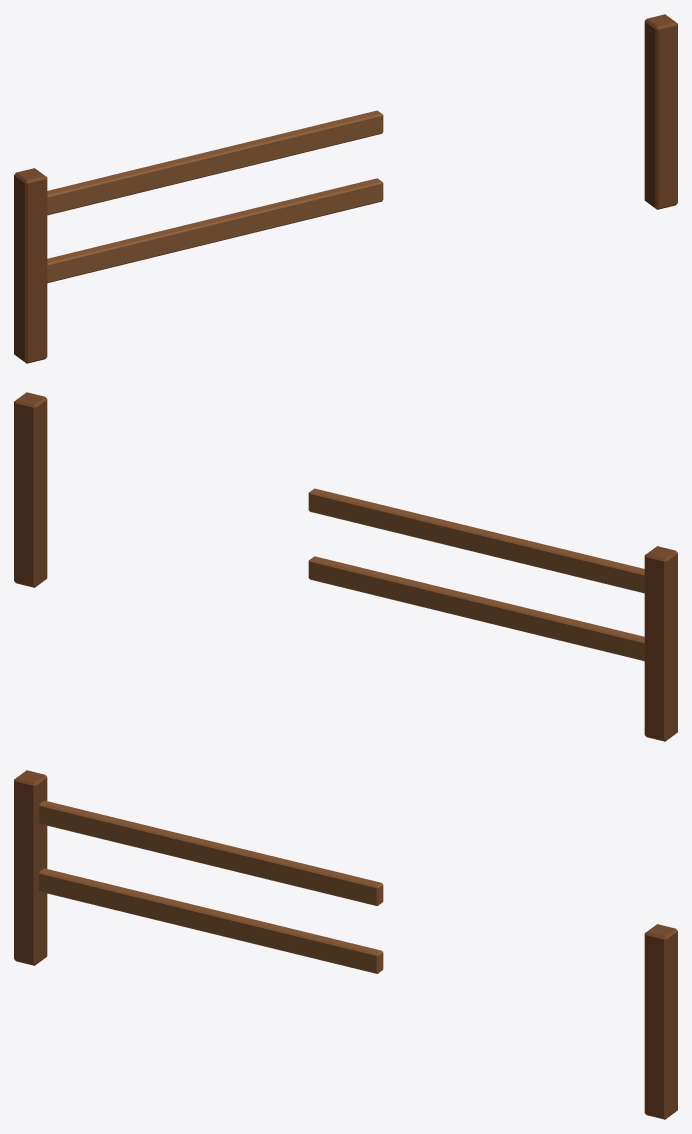
Rendered from pagar_kayu_v001.glb.
The picture shows the model from 3 angles, top to bottom: view 1: azimuth 30°, elevation 25°; view 2: azimuth 150°, elevation 25°; view 3: azimuth 330°, elevation 25°; orthographic projection.
Visible parts, largest first — view 1: pagar_kayu_segmen, pagar_kayu_ujung; view 2: pagar_kayu_segmen, pagar_kayu_ujung; view 3: pagar_kayu_segmen, pagar_kayu_ujung.
Boxes of the visible parts, left/top/right/bottom form: pagar_kayu_segmen: left=14, top=110, right=383, bottom=363; pagar_kayu_ujung: left=644, top=14, right=677, bottom=209; pagar_kayu_segmen: left=308, top=488, right=677, bottom=741; pagar_kayu_ujung: left=14, top=392, right=47, bottom=587; pagar_kayu_segmen: left=14, top=770, right=383, bottom=973; pagar_kayu_ujung: left=644, top=924, right=677, bottom=1119.
Size of the model in its own units: 3.73 by 1 by 0.13.
